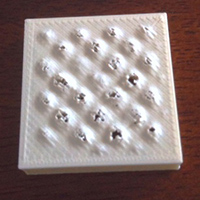3dptoplayergaps: (36, 27, 165, 150)
